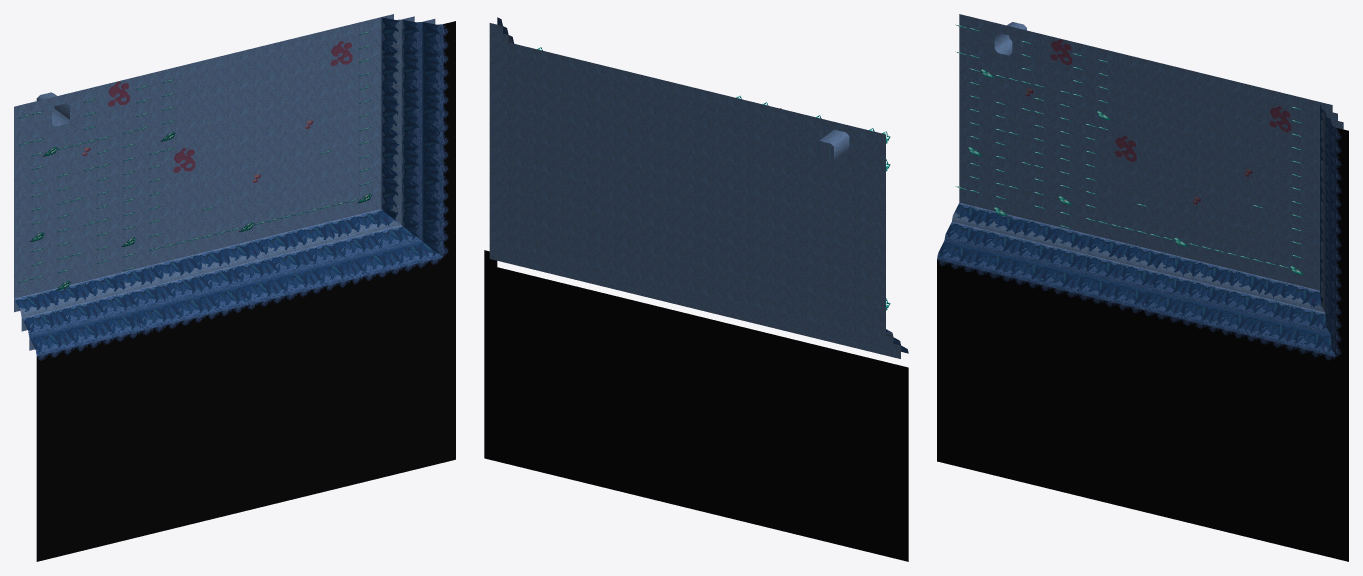
File: HGRT-Caves-v1_16_16.obj
The picture shows the model from 3 angles, left to right: view 1: azimuth 30°, elevation 25°; view 2: azimuth 150°, elevation 25°; view 3: azimuth 330°, elevation 25°; orthographic projection. The views are drawn at different scales.
Parts seen in each view (by area): view 1: map; view 2: map; view 3: map.
Part boxes in pixels (x1,y1,x2,y2): map: [14, 14, 455, 561]; map: [484, 17, 908, 561]; map: [937, 14, 1348, 561].
Size of the model in its own units: 32 by 32 by 4.88.
10 materials, 10 textured.
